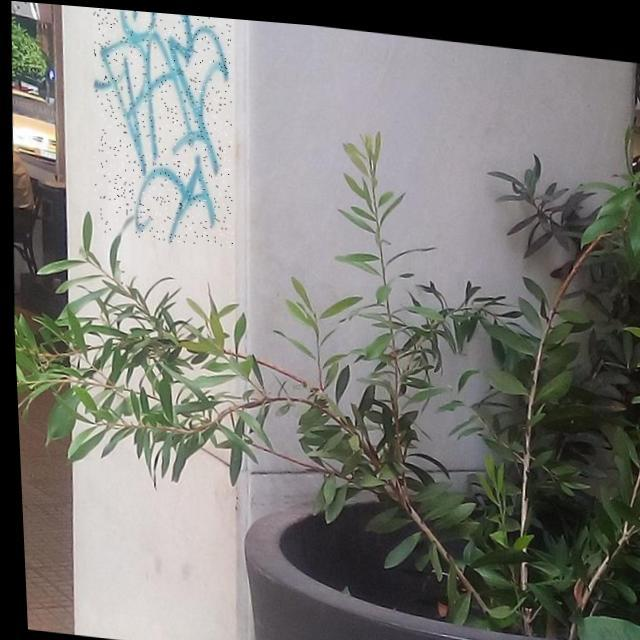-: (85, 6, 238, 244)
